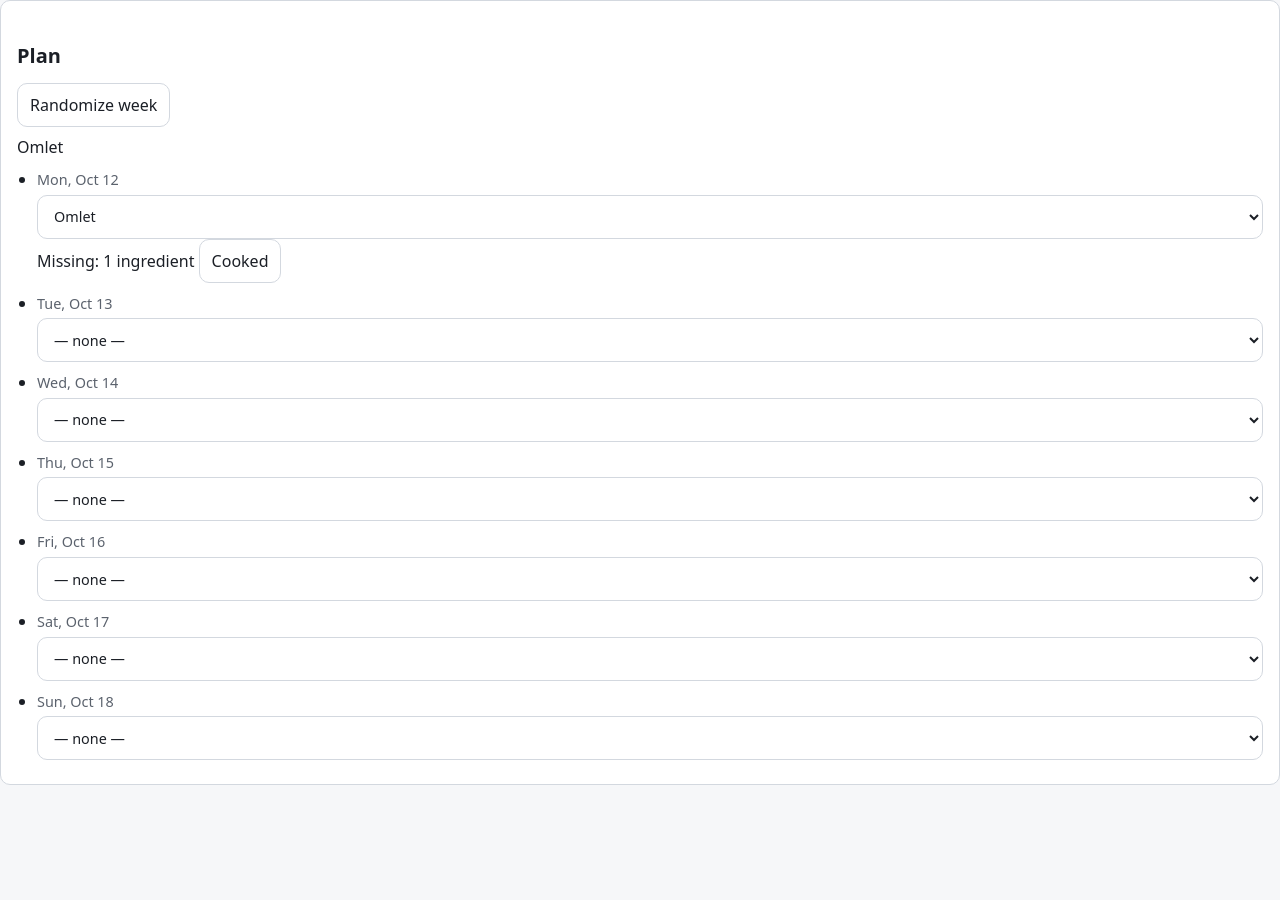
Test: PlanView cooking › shows the whole row when it will be used up, and alerts on failure
This screenshot has width=1280, height=900.
Click the button "Cooked": (240, 261) 199,239 -> 282,283
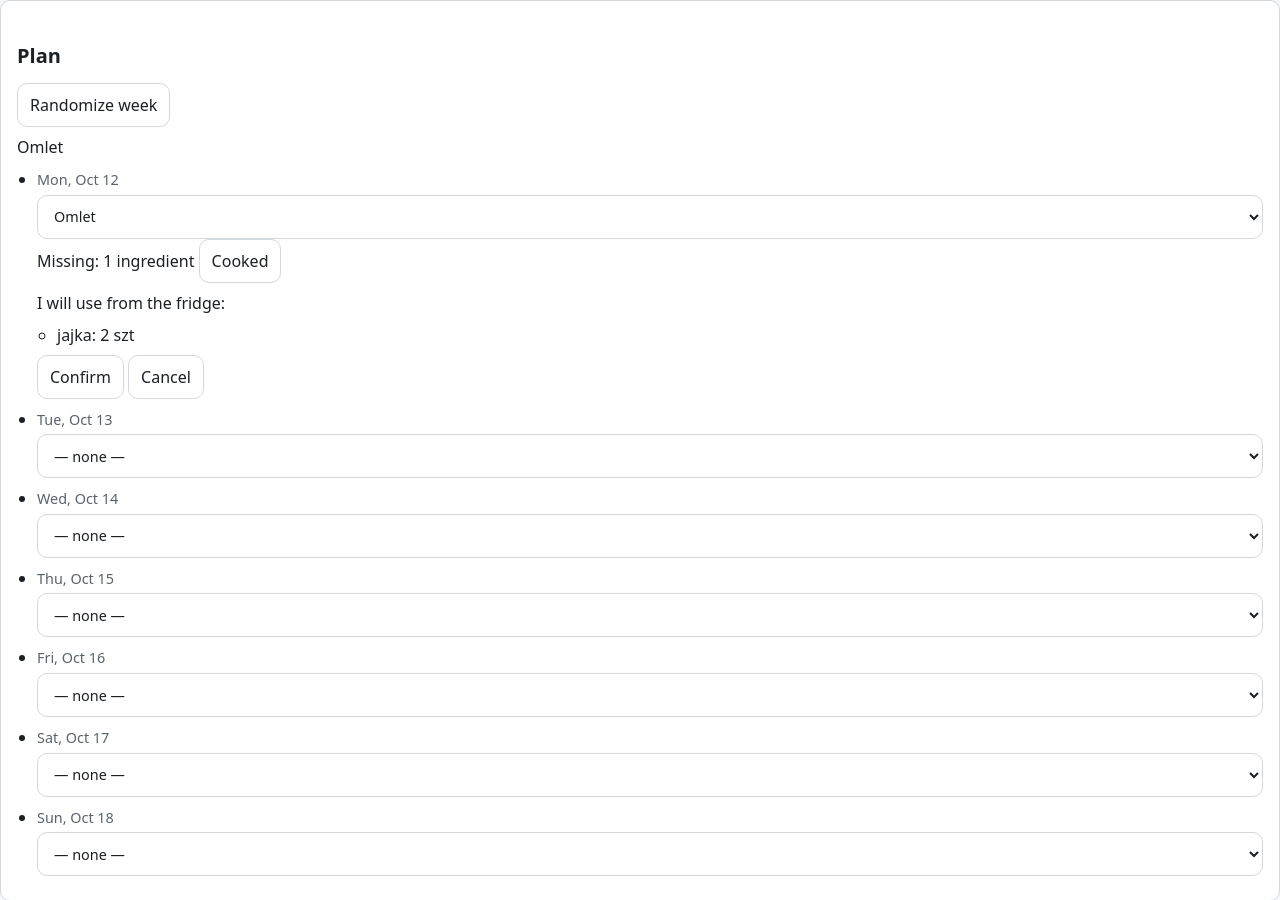
Now the list item "jajka: 2 szt" is shown, box 57,324 -> 134,346
Click the button "Confirm": (80, 377) 37,355 -> 124,399
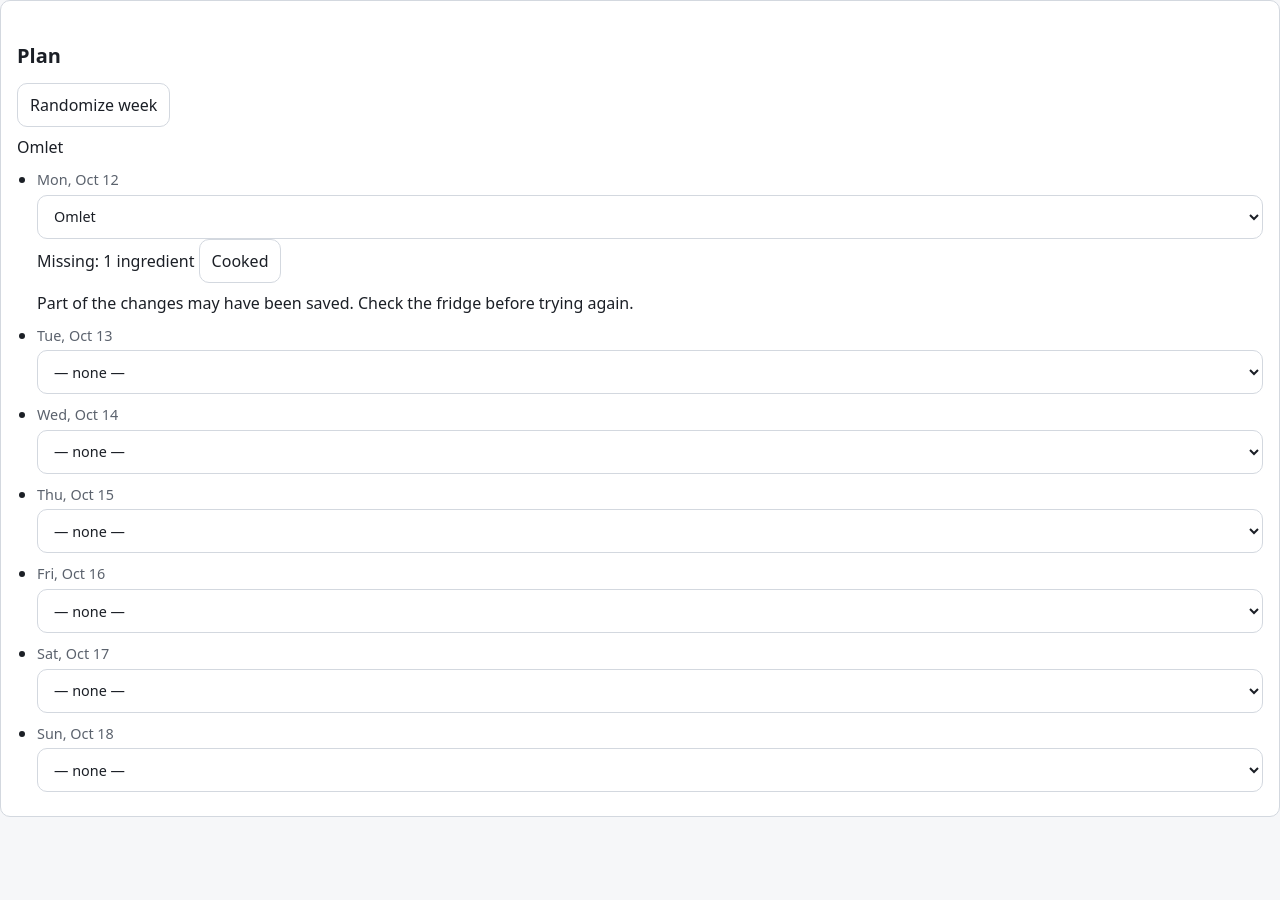
Now the number of messages is 1, box 37,292 -> 634,314
Now the text "I will use from the fridge:" is gone
